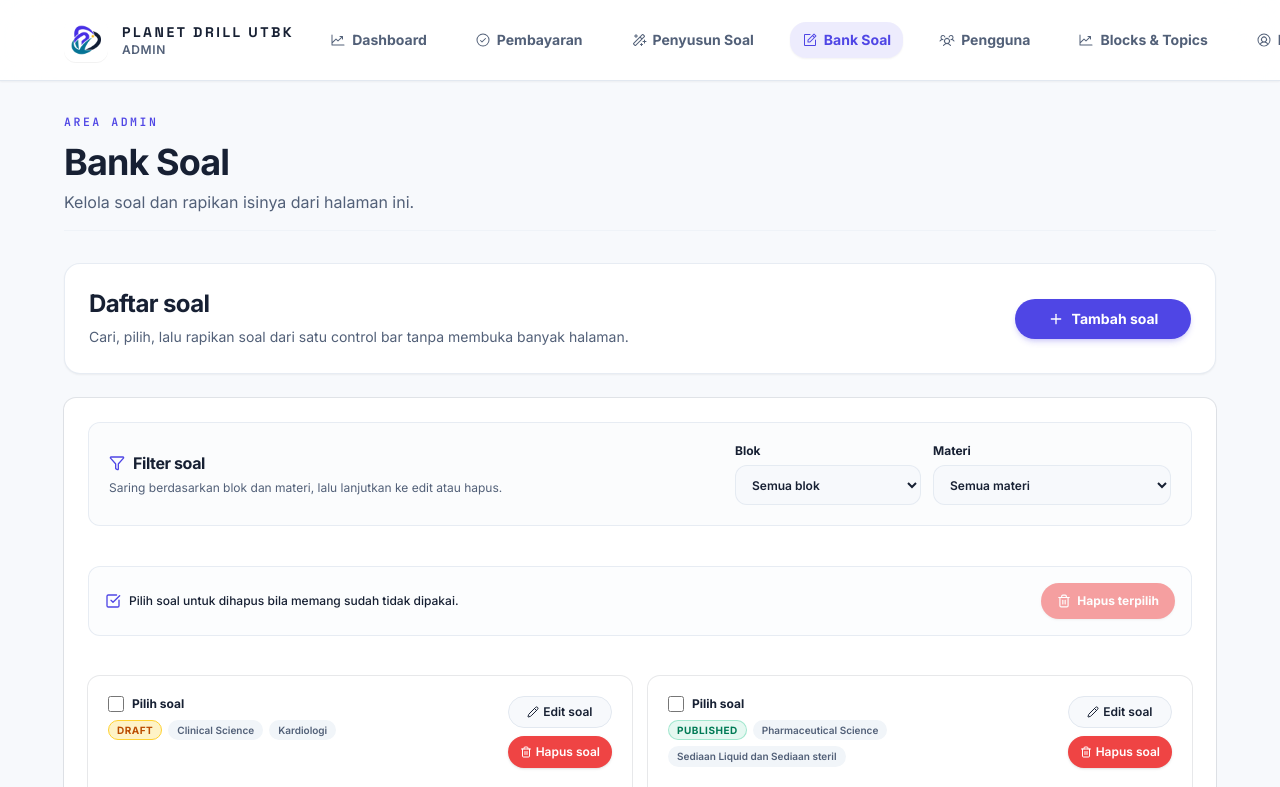
Questions page › refreshes the question bank even when bulk delete fails
This screenshot has width=1280, height=787.
Click the checkbox named "pilih soal apa target tekanan darah pada ckd".
click(116, 704)  # box [108,696,124,712]
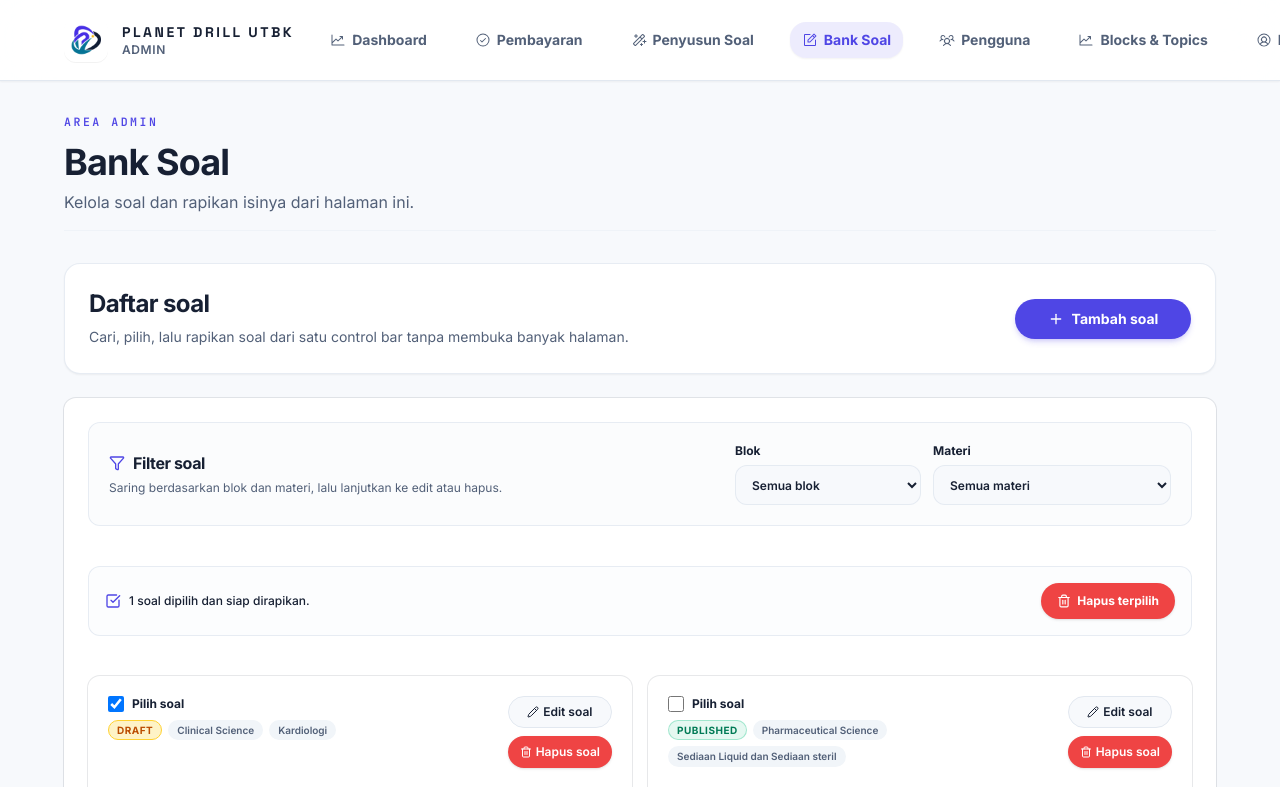
Click the button "Hapus terpilih".
click(1108, 601)  # box [1041,583,1175,619]
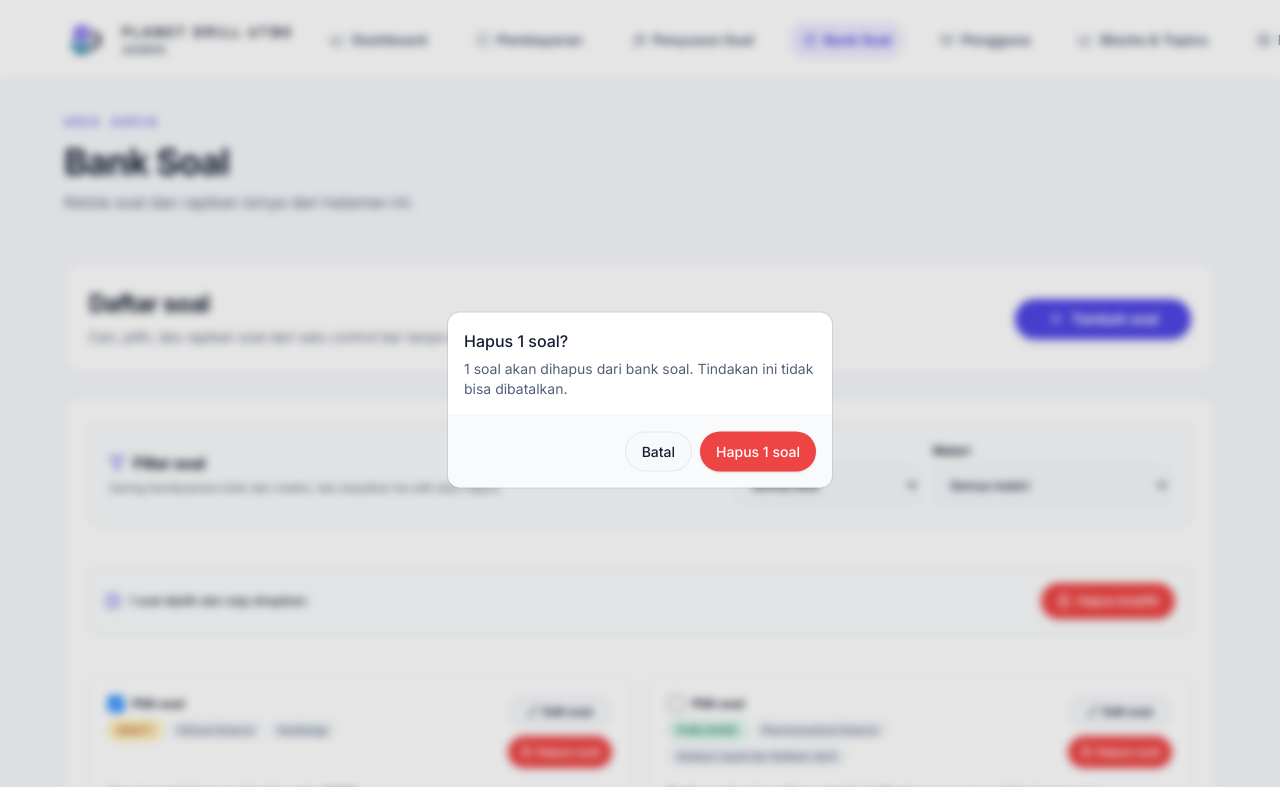
Click the button "Hapus 1 soal".
click(758, 452)  # box [700,432,816,472]
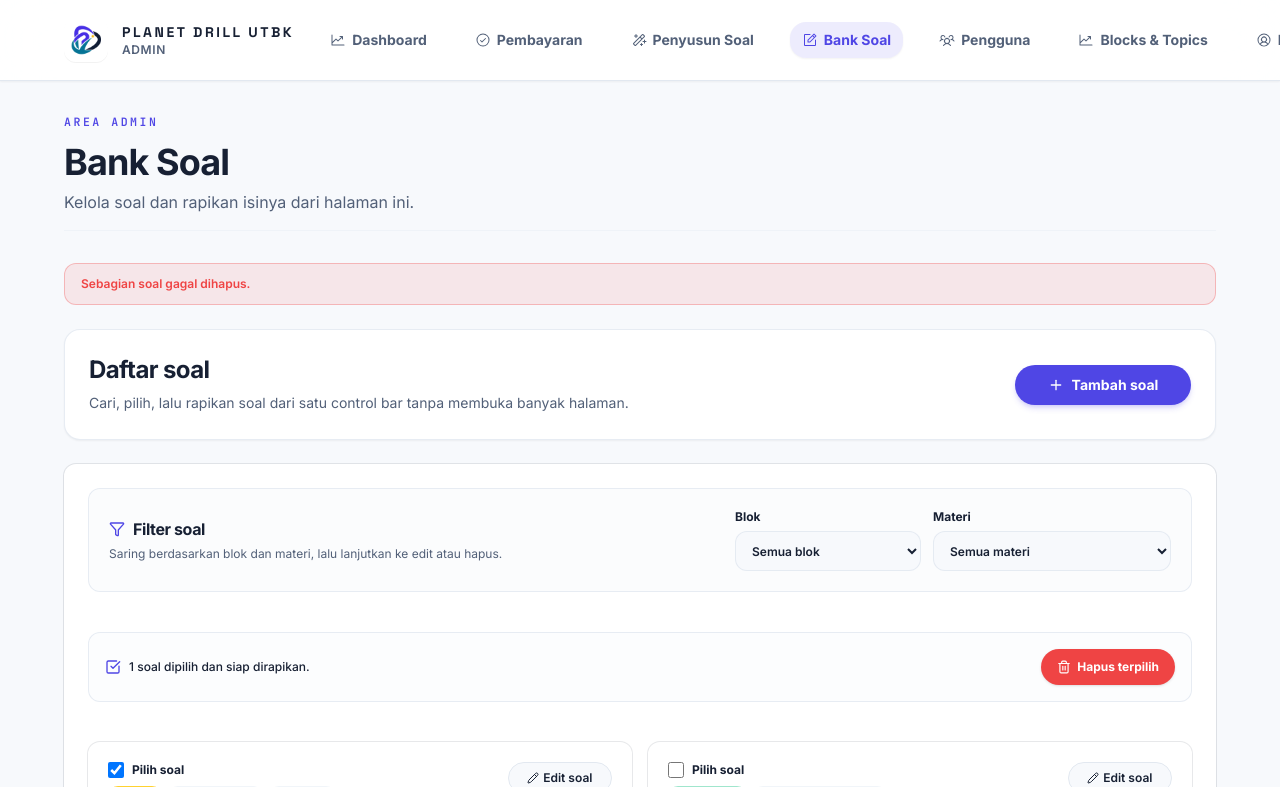
Now the text "Sebagian soal gagal dihapus." is shown, box [64,263,1216,305]
